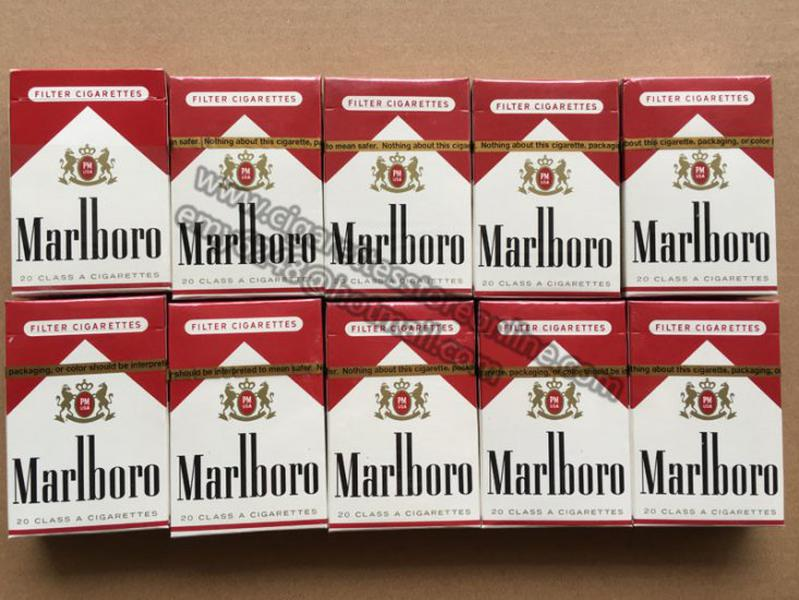marlboro_red: (6, 302, 166, 531), (326, 306, 480, 529), (13, 72, 167, 293), (478, 302, 628, 527), (171, 306, 321, 531), (630, 304, 781, 527), (168, 79, 318, 297), (623, 82, 776, 294), (325, 81, 471, 297), (475, 84, 620, 299)
